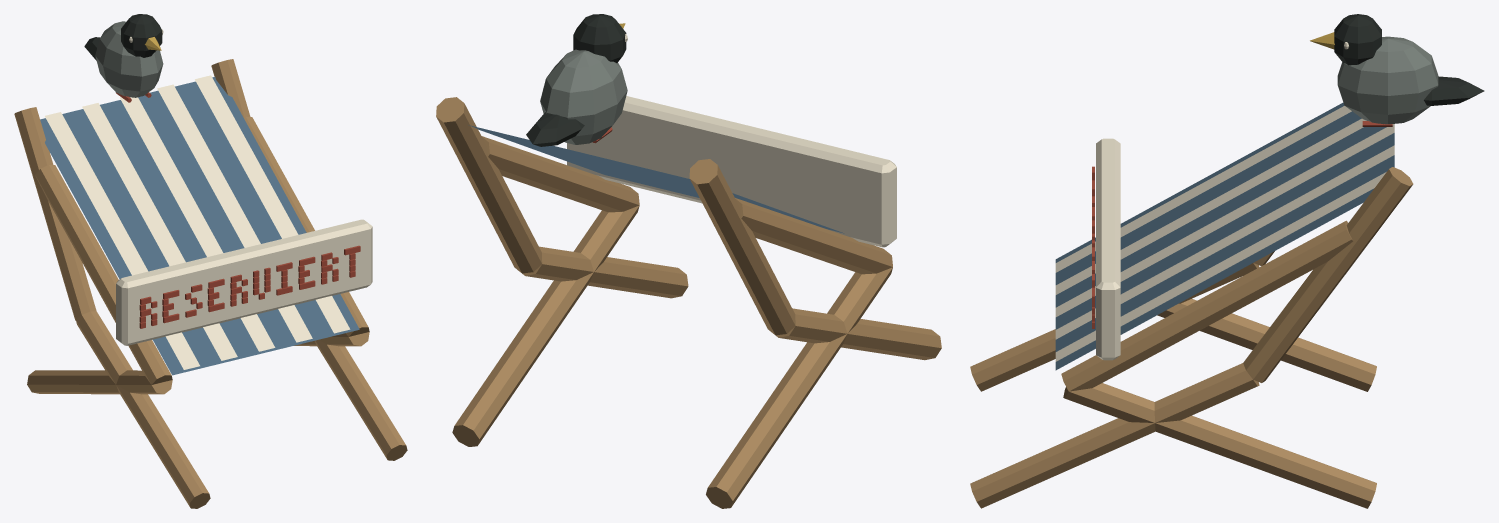
File: reserved-lounger.glb
3 views of the same model, side by side, from view 1: azimuth 30°, elevation 25°; view 2: azimuth 150°, elevation 25°; view 3: azimuth 270°, elevation 25° (orthographic). The views are drawn at different scales.
Visible parts, largest first — view 1: reserved-lounger; view 2: reserved-lounger; view 3: reserved-lounger.
Boxes of the visible parts, bbox=[...] form: reserved-lounger: bbox=[14, 14, 407, 508]; reserved-lounger: bbox=[436, 14, 941, 508]; reserved-lounger: bbox=[970, 14, 1484, 508].
Bounding box in the file's own units: 1.07 × 1.45 × 1.56.
